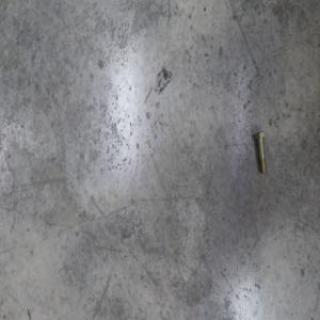Bolttrack_idkeyframe: (254, 128, 268, 173)
